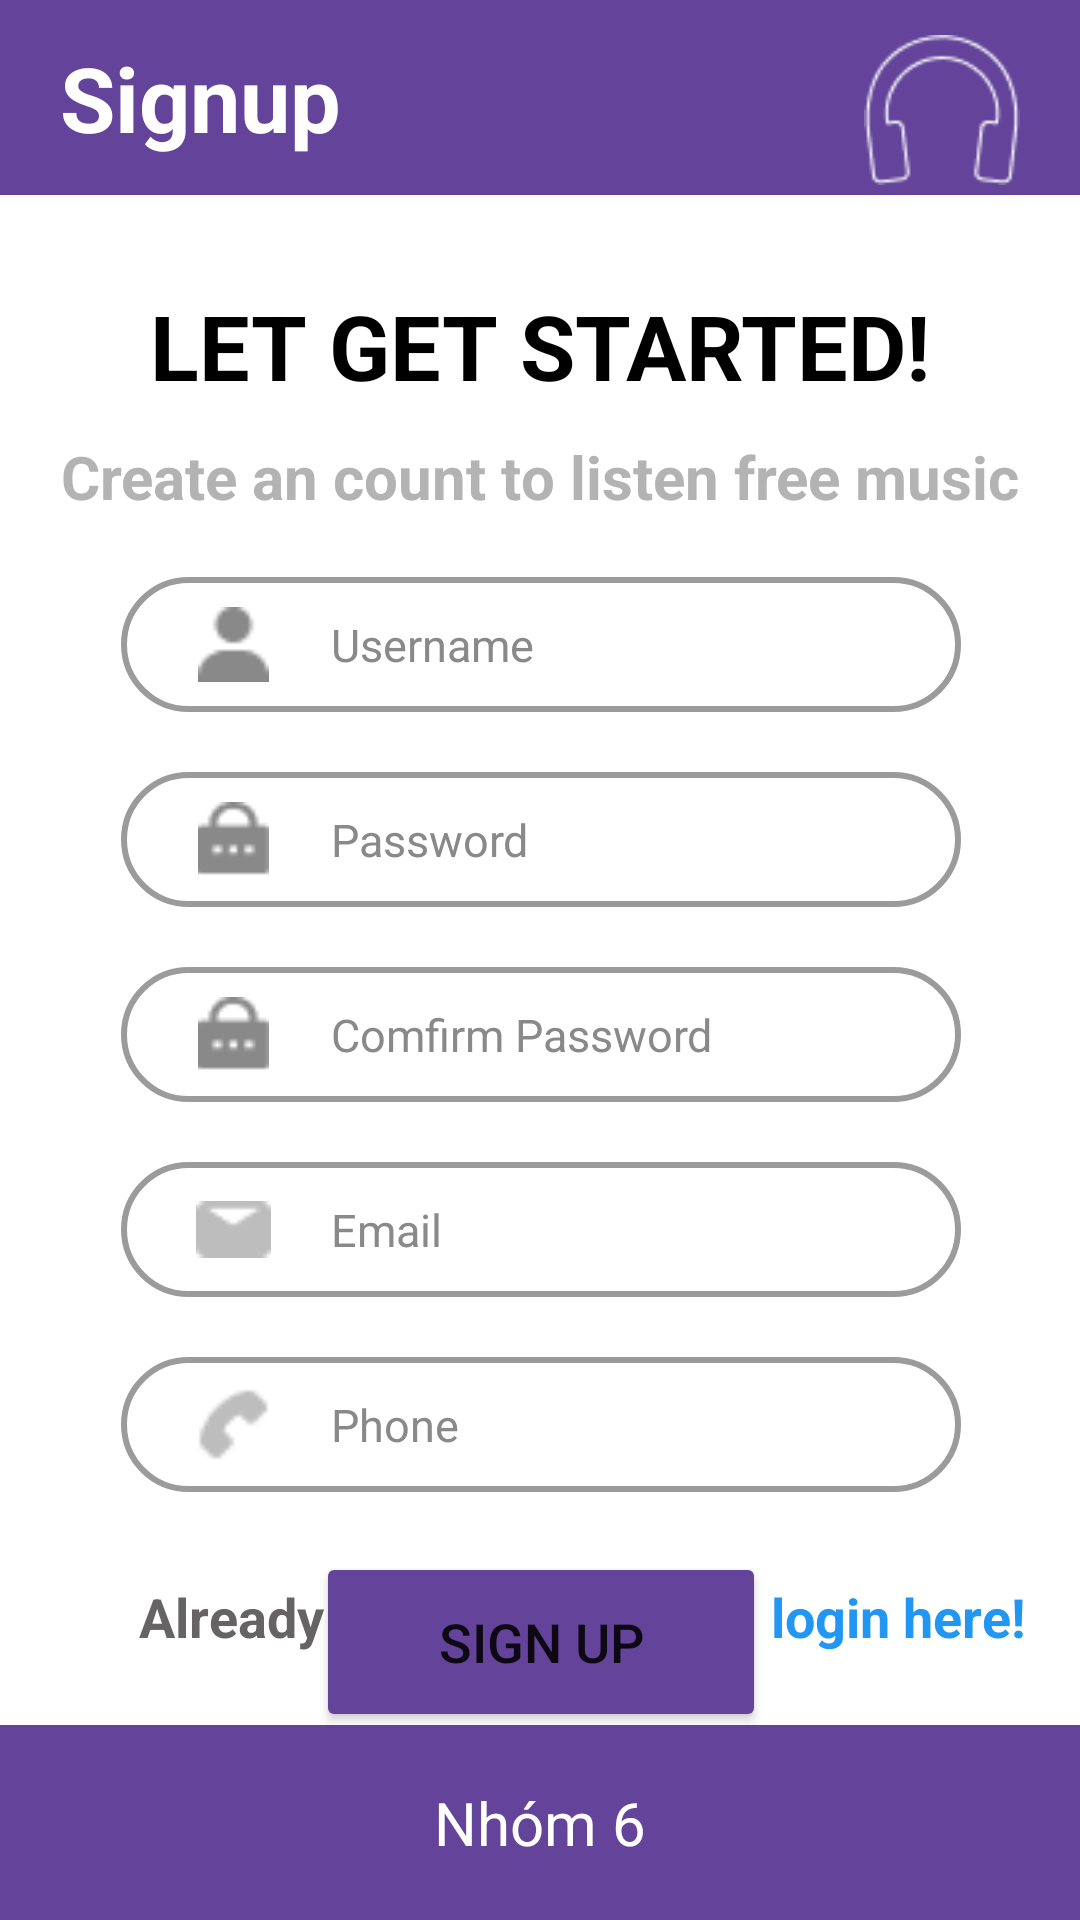

Icon bounding boxes for this 1080px x 1920px phone screenshot, format (x1, y1, x2, y2):
human: (198, 607, 269, 682)
khoa: (198, 802, 269, 874), (198, 997, 269, 1069)
tai nghe: (864, 35, 1018, 185)
